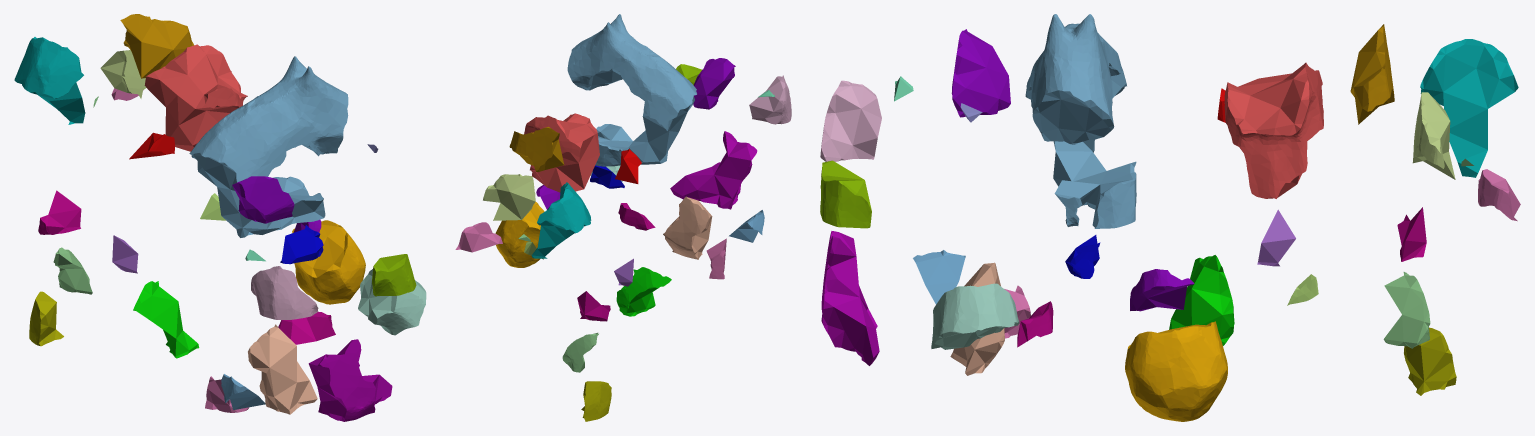
File: fractured_40_28pcs_transformed.glb
The picture shows the model from 3 angles, left to right: view 1: azimuth 30°, elevation 25°; view 2: azimuth 150°, elevation 25°; view 3: azimuth 270°, elevation 25°; orthographic projection. The views are drawn at different scales.
Parts seen in each view (by area): view 1: piece_2.obj, piece_1.obj, piece_12.obj, piece_0.obj, piece_13.obj, piece_7.obj, piece_17.obj, piece_6.obj, piece_4.obj, piece_8.obj, piece_18.obj, piece_14.obj (+11 smaller); view 2: piece_2.obj, piece_1.obj, piece_12.obj, piece_13.obj, piece_7.obj, piece_5.obj, piece_0.obj, piece_17.obj, piece_8.obj, piece_18.obj, piece_6.obj, piece_11.obj (+10 smaller); view 3: piece_2.obj, piece_1.obj, piece_0.obj, piece_13.obj, piece_12.obj, piece_4.obj, piece_6.obj, piece_18.obj, piece_8.obj, piece_14.obj, piece_17.obj, piece_3.obj (+10 smaller).
Part boxes in pixels (left/top/right/bottom): piece_2.obj: left=189, top=56, right=348, bottom=237; piece_1.obj: left=144, top=44, right=247, bottom=151; piece_12.obj: left=308, top=339, right=392, bottom=421; piece_0.obj: left=292, top=220, right=365, bottom=304; piece_13.obj: left=14, top=37, right=85, bottom=124; piece_7.obj: left=248, top=324, right=317, bottom=414; piece_17.obj: left=120, top=14, right=194, bottom=78; piece_6.obj: left=251, top=266, right=318, bottom=319; piece_4.obj: left=358, top=269, right=426, bottom=335; piece_8.obj: left=133, top=281, right=199, bottom=358; piece_18.obj: left=232, top=176, right=294, bottom=223; piece_14.obj: left=372, top=254, right=416, bottom=296; piece_2.obj: left=567, top=14, right=696, bottom=166; piece_1.obj: left=524, top=113, right=599, bottom=192; piece_12.obj: left=670, top=131, right=757, bottom=209; piece_13.obj: left=531, top=182, right=591, bottom=258; piece_7.obj: left=663, top=196, right=712, bottom=259; piece_5.obj: left=483, top=174, right=535, bottom=220; piece_0.obj: left=495, top=202, right=544, bottom=267; piece_17.obj: left=509, top=126, right=564, bottom=171; piece_8.obj: left=616, top=267, right=671, bottom=316; piece_18.obj: left=693, top=58, right=735, bottom=109; piece_6.obj: left=749, top=75, right=791, bottom=124; piece_11.obj: left=581, top=381, right=611, bottom=421; piece_2.obj: left=1025, top=14, right=1136, bottom=228; piece_1.obj: left=1224, top=62, right=1323, bottom=198; piece_0.obj: left=1125, top=321, right=1227, bottom=421; piece_13.obj: left=1420, top=39, right=1518, bottom=177; piece_12.obj: left=821, top=231, right=879, bottom=365; piece_4.obj: left=931, top=283, right=1019, bottom=349; piece_6.obj: left=820, top=80, right=881, bottom=161; piece_18.obj: left=951, top=29, right=1010, bottom=117; piece_8.obj: left=1169, top=255, right=1234, bottom=345; piece_14.obj: left=820, top=160, right=871, bottom=228; piece_17.obj: left=1350, top=24, right=1394, bottom=124; piece_3.obj: left=1383, top=272, right=1430, bottom=348.
Bounding box in the file's own units: 1.01 × 1.49 × 2.14.
